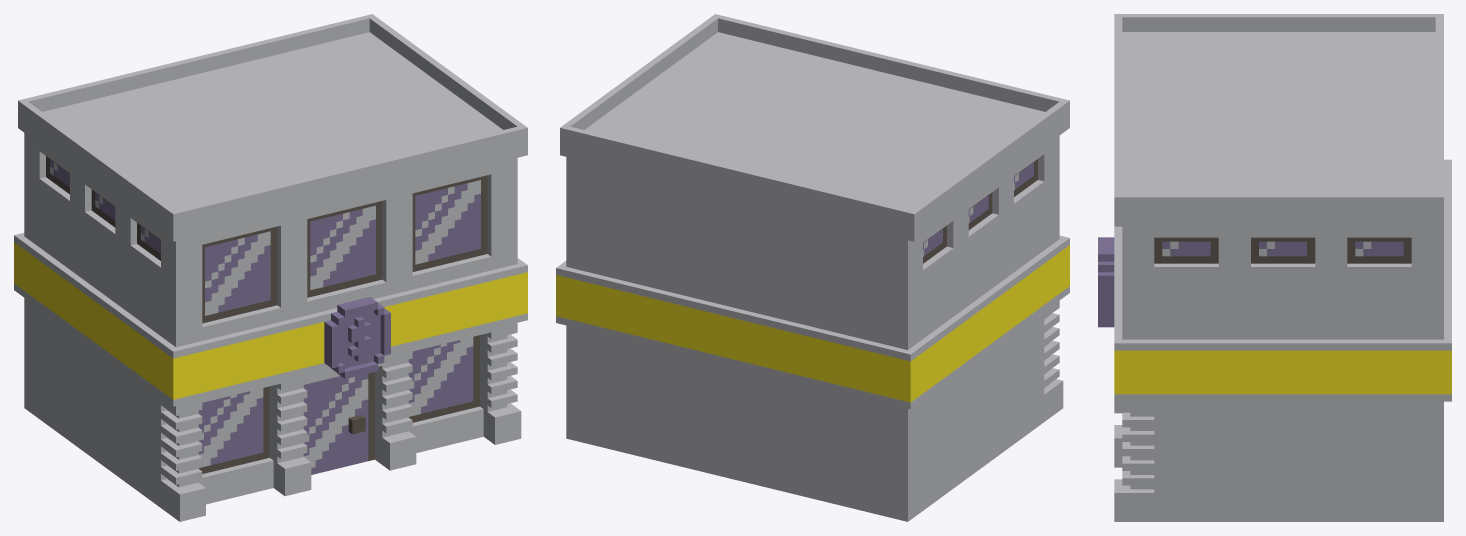
The model's file is bank_b.obj.
3 renders of one model, left to right at view 1: azimuth 30°, elevation 25°; view 2: azimuth 150°, elevation 25°; view 3: azimuth 270°, elevation 25°, orthographic. The views are drawn at different scales.
Bounding box in the file's own units: 5.4 × 4.5 × 4.4.
Materials: 1 (1 with a texture image).
